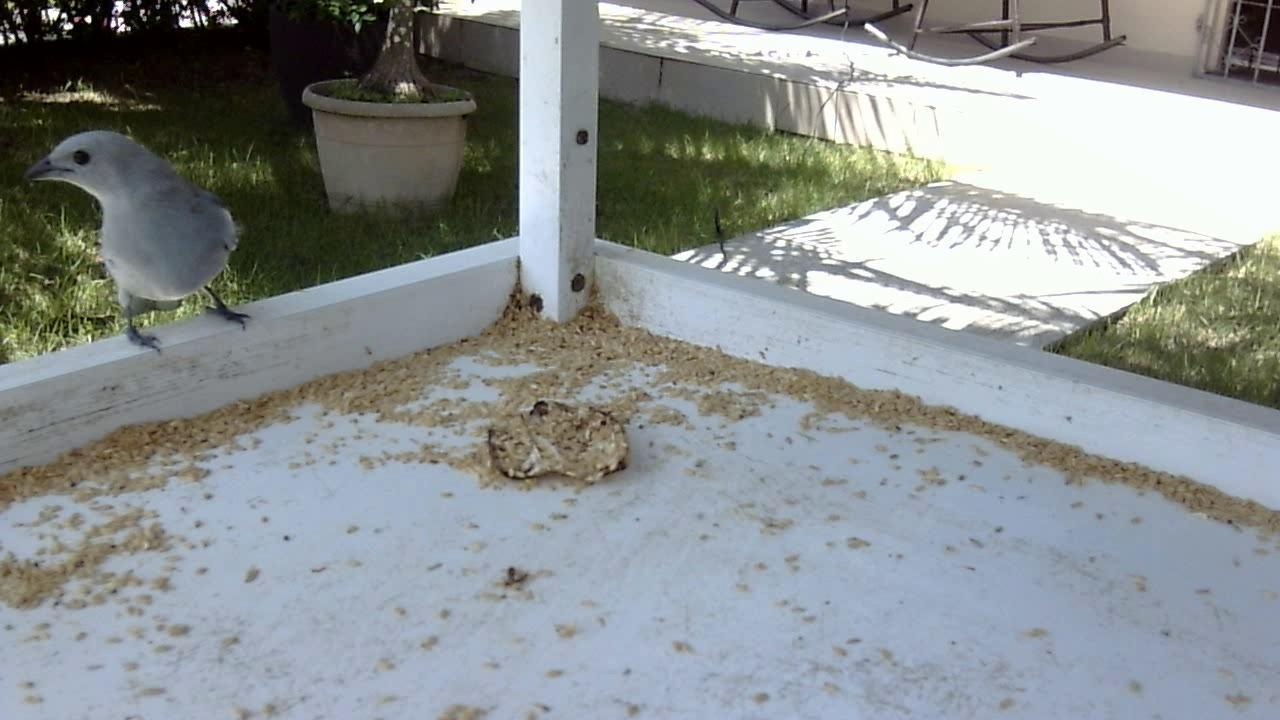sanhaco_da_amazonia: (22, 126, 256, 362)
